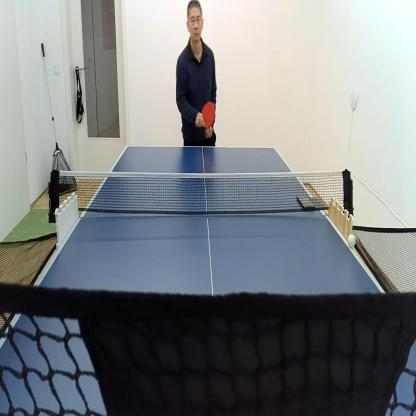Ball: (348, 235, 355, 248)
